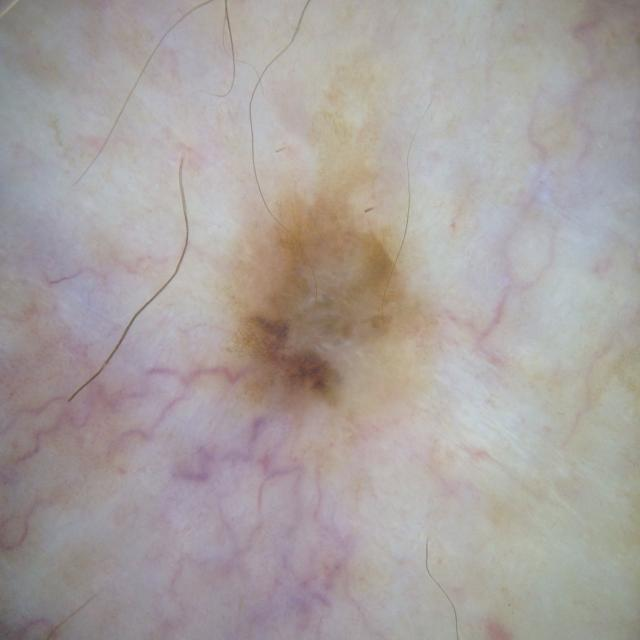Skin-Cancer Dermatofibroma: (41, 15, 640, 640)
